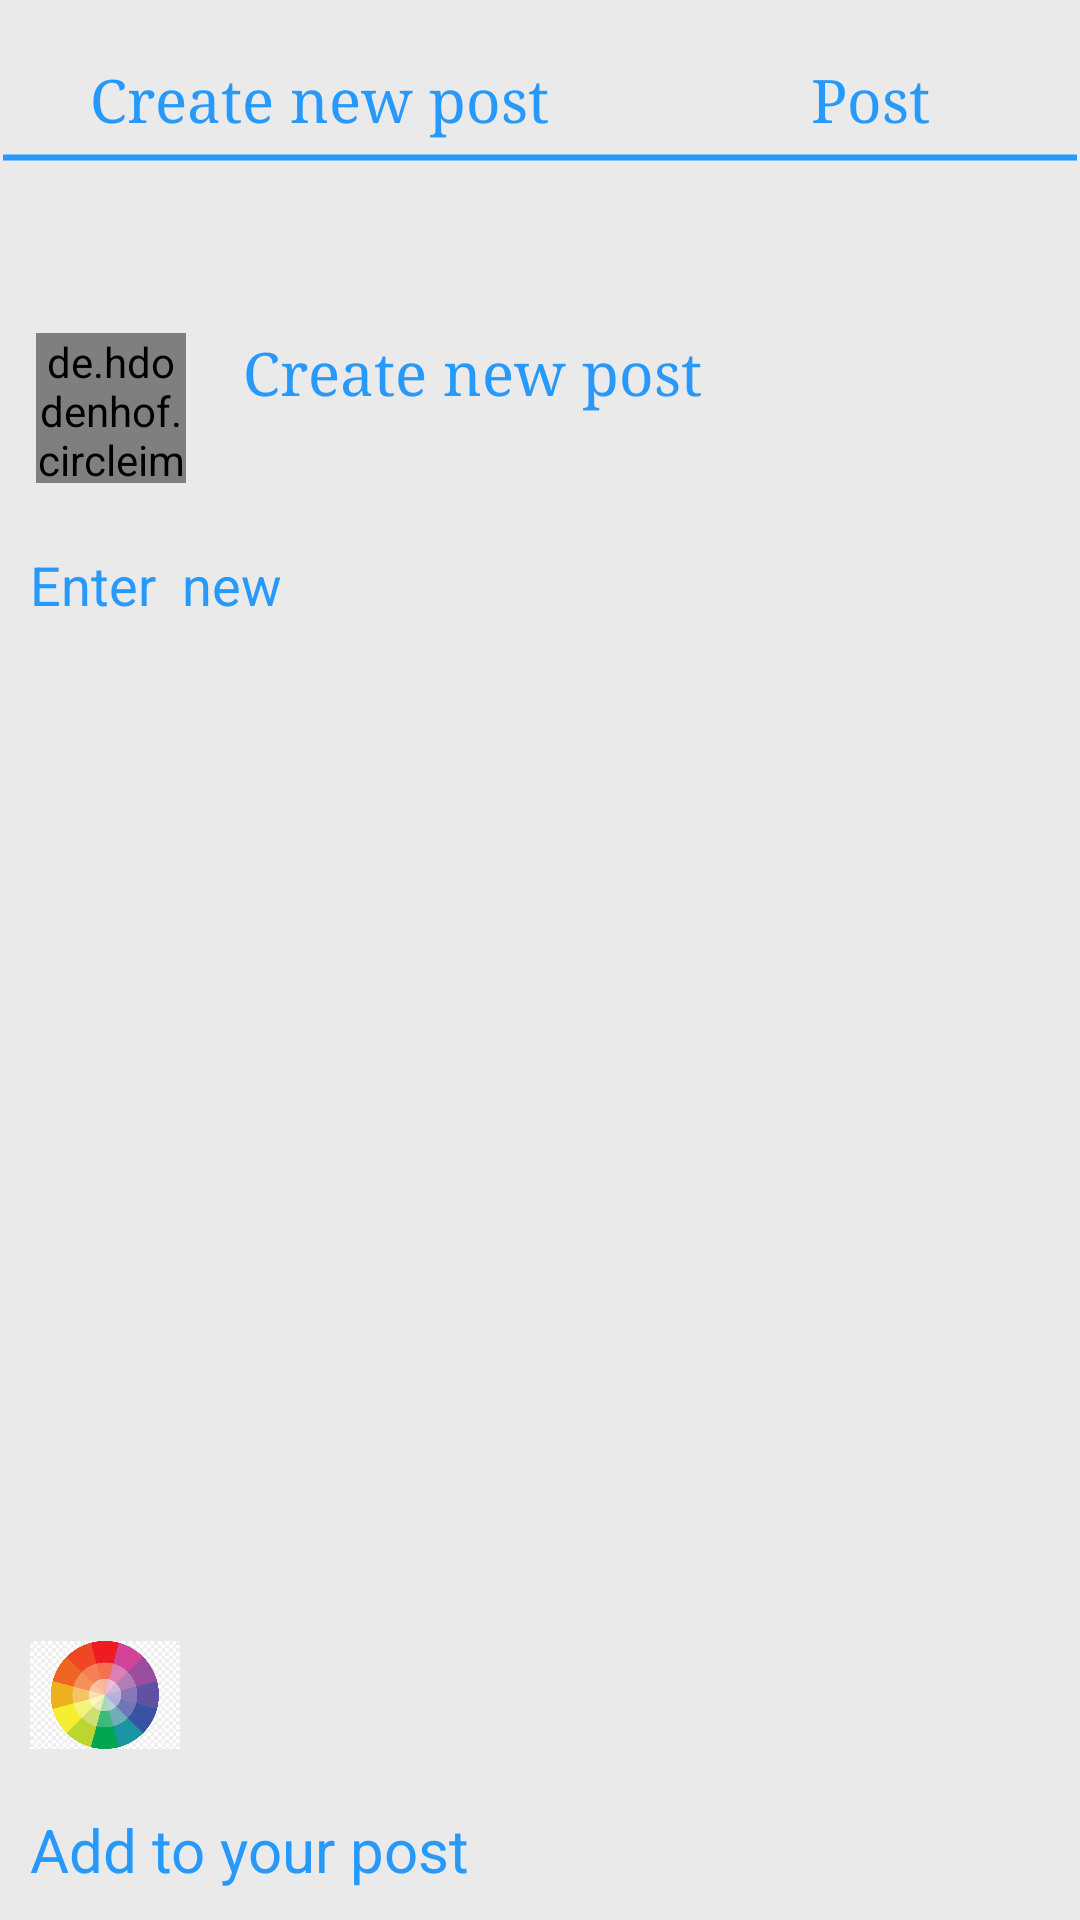

Icon bounding boxes for this 1080 × 1920 phone screenshot, format (x1, y1, x2, y2):
colorpicker: (51, 1641, 159, 1749)
